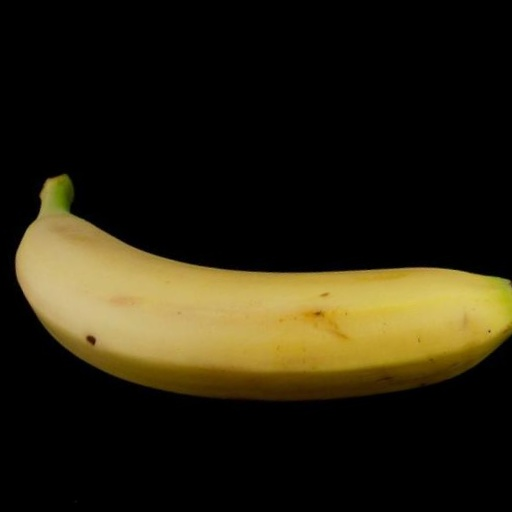fruit: (15, 175, 512, 400)
